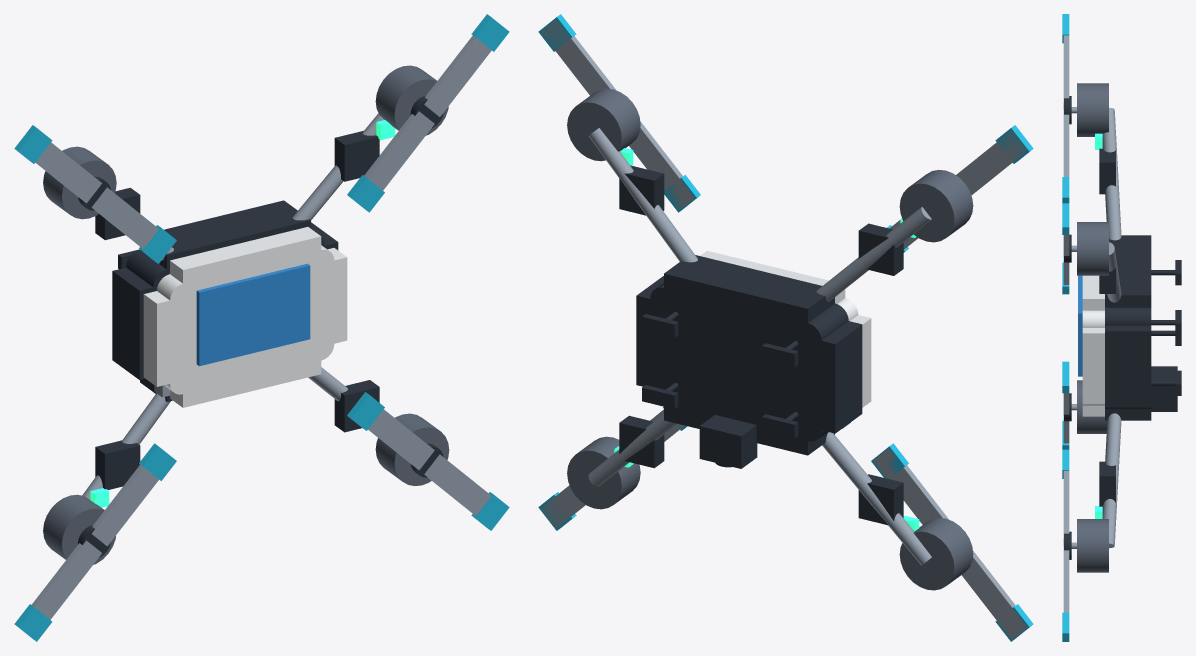
File: robot.glb
The picture shows the model from 3 angles, left to right: view 1: azimuth 30°, elevation 25°; view 2: azimuth 150°, elevation 25°; view 3: azimuth 270°, elevation 25°; orthographic projection. The views are drawn at different scales.
Parts seen in each view (by area): view 1: RS_shell, RS_propeller-rear-right, RS_propeller-front-left, RS_propeller-rear-left, RS_propeller-front-right, RS_arm-rear-right, RS_arm-front-left, RS_motor-rear-right, RS_motor-front-left, RS_motor-rear-left, RS_motor-front-right, RS_arm-front-right (+1 smaller); view 2: RS_shell, RS_propeller-front-left, RS_propeller-rear-right, RS_arm-rear-right, RS_arm-front-left, RS_motor-rear-left, RS_motor-front-left, RS_motor-rear-right, RS_arm-rear-left, RS_motor-front-right, RS_arm-front-right, RS_landing-gear (+3 smaller); view 3: RS_shell, RS_arm-rear-left, RS_arm-front-right, RS_motor-front-right, RS_motor-rear-right, RS_motor-rear-left, RS_propeller-front-right, RS_propeller-rear-left, RS_landing-gear, RS_camera, RS_motor-front-left, RS_propeller-rear-right (+2 smaller).
Part boxes in pixels (x1,y1,x2,y2): RS_shell: (112, 200, 347, 407); RS_propeller-rear-right: (347, 14, 509, 212); RS_propeller-front-left: (14, 443, 176, 641); RS_propeller-rear-left: (14, 125, 176, 263); RS_propeller-front-right: (347, 392, 509, 530); RS_arm-rear-right: (292, 113, 395, 220); RS_arm-front-left: (82, 393, 170, 507); RS_motor-rear-right: (375, 65, 448, 135); RS_motor-front-left: (43, 494, 115, 564); RS_motor-rear-left: (43, 146, 116, 219); RS_motor-front-right: (375, 413, 449, 485); RS_arm-front-right: (308, 367, 379, 432); RS_shell: (636, 250, 871, 455); RS_propeller-front-left: (871, 443, 1033, 641); RS_propeller-rear-right: (538, 14, 700, 212); RS_arm-rear-right: (588, 128, 697, 262); RS_arm-front-left: (822, 432, 931, 565); RS_motor-rear-left: (899, 170, 973, 242); RS_motor-front-left: (899, 518, 973, 590); RS_motor-rear-right: (567, 88, 640, 161); RS_arm-rear-left: (816, 207, 931, 301); RS_motor-front-right: (567, 436, 640, 509); RS_arm-front-right: (588, 413, 676, 486); RS_landing-gear: (642, 311, 798, 438); RS_shell: (1078, 235, 1151, 420); RS_arm-rear-left: (1095, 107, 1121, 240); RS_arm-front-right: (1095, 413, 1121, 548); RS_motor-front-right: (1071, 519, 1108, 572); RS_motor-rear-right: (1071, 222, 1108, 275); RS_motor-rear-left: (1071, 83, 1108, 136); RS_propeller-front-right: (1062, 449, 1071, 641); RS_propeller-rear-left: (1062, 14, 1071, 203); RS_landing-gear: (1151, 260, 1181, 395); RS_camera: (1151, 366, 1177, 411); RS_motor-front-left: (1071, 380, 1107, 433); RS_propeller-rear-right: (1062, 203, 1071, 294).
Size of the model in its own units: 7.53 by 7.53 by 1.85.
